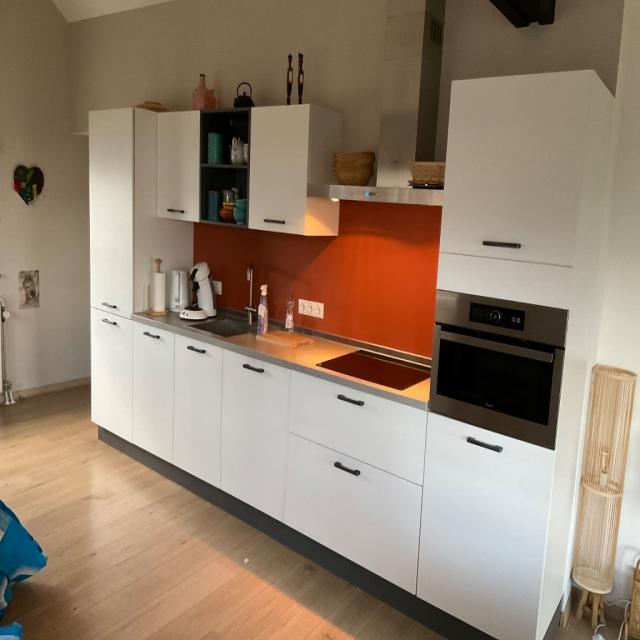cabinet_door: (450, 82, 584, 264), (421, 431, 542, 610), (290, 455, 416, 546), (91, 111, 131, 317), (295, 387, 421, 452), (226, 361, 286, 495), (249, 108, 306, 228), (179, 344, 220, 466), (156, 113, 199, 220), (136, 323, 171, 438), (94, 317, 131, 422)
handle: (462, 433, 504, 459), (480, 233, 525, 256), (334, 456, 363, 480), (336, 388, 366, 409), (240, 356, 266, 378), (138, 325, 165, 346), (98, 296, 120, 313), (101, 316, 123, 333), (262, 214, 288, 228), (185, 343, 207, 358), (166, 203, 187, 217)
